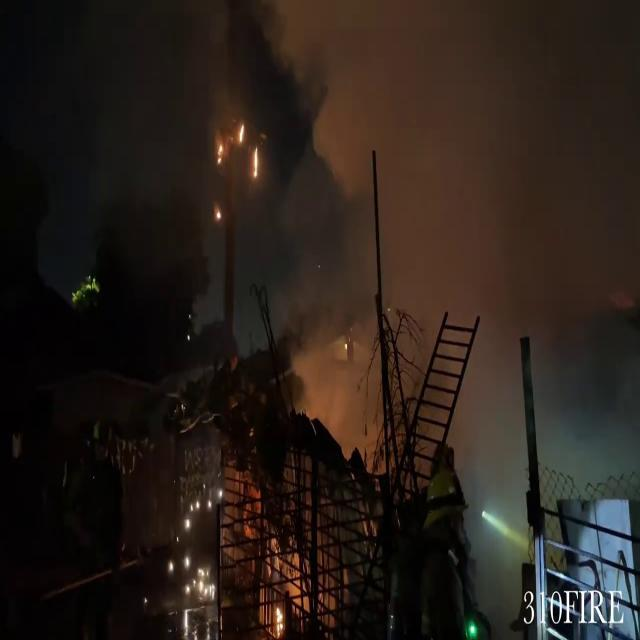Smoke: (279, 0, 640, 472)
